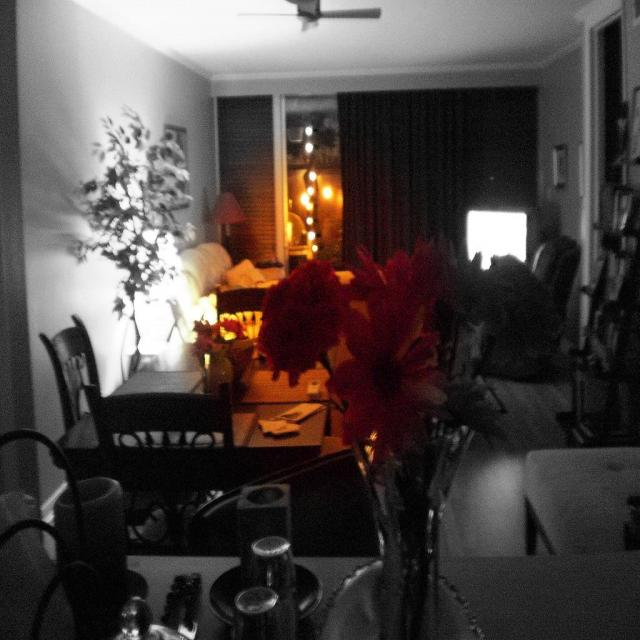table: (54, 401, 340, 537)
